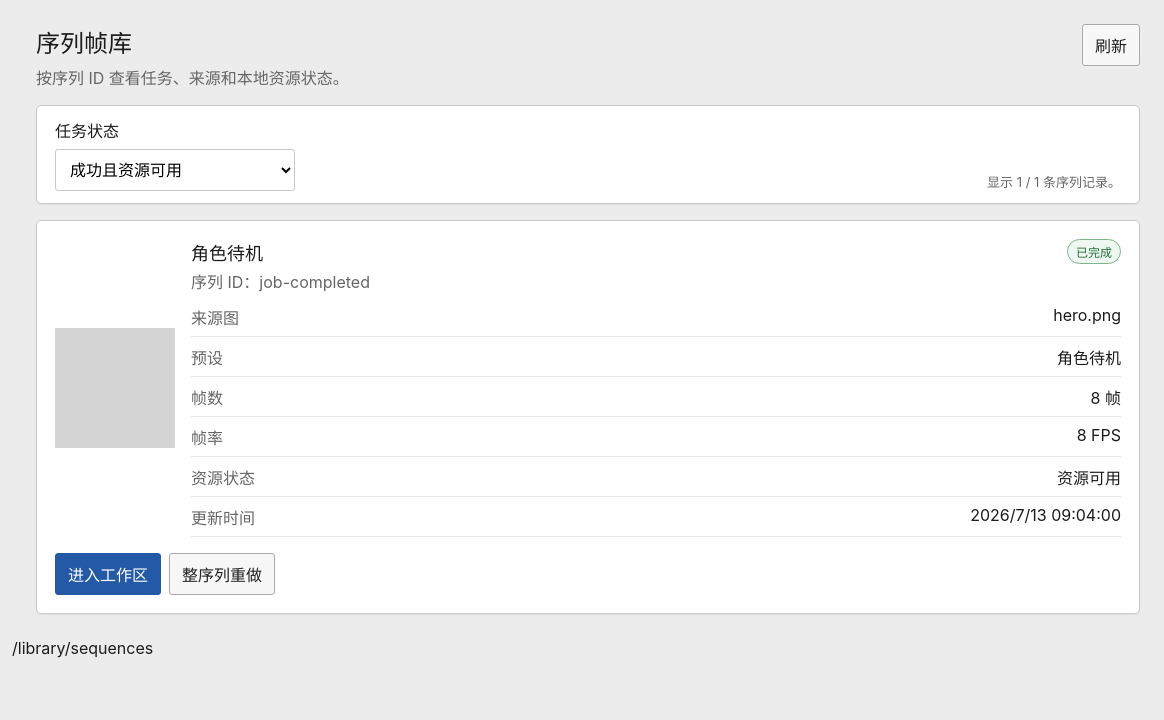
Scenario: SequenceLibraryPage › navigates to the stable workspace and redo routes
The image size is (1164, 720).
Click the button "进入工作区": (108, 574) top-left (55, 553), bottom-right (161, 595)
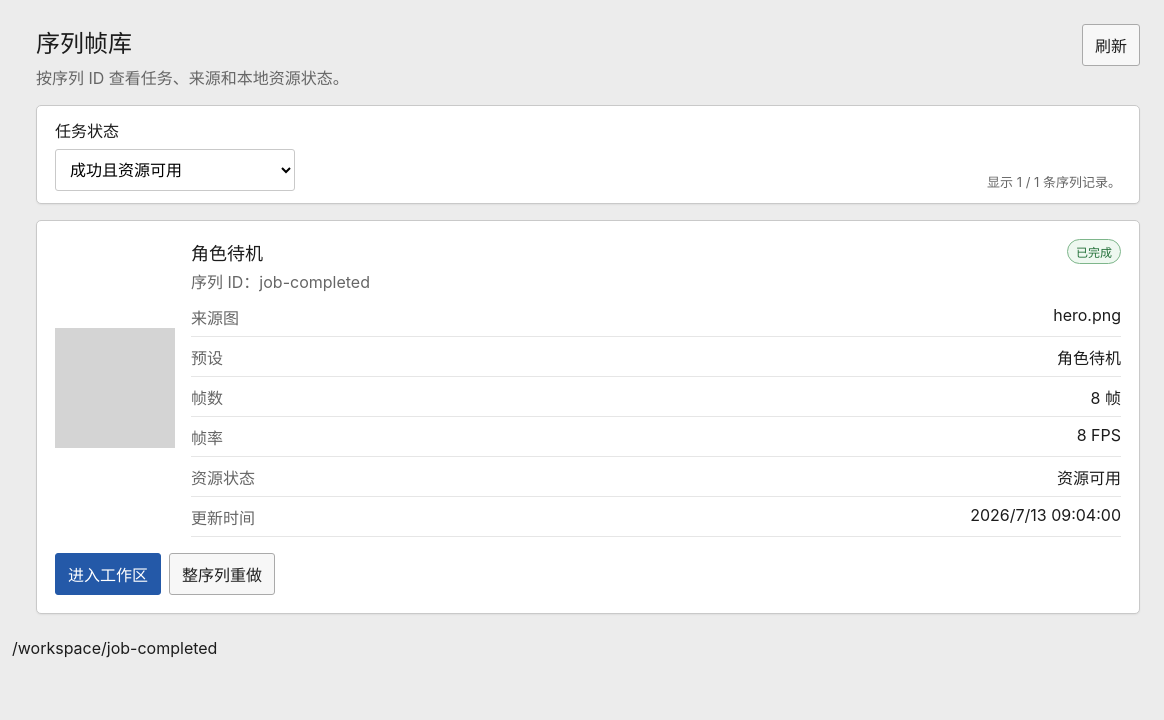
Check: the text with test id "location" reads "/workspace/job-completed", box top-left (12, 638), bottom-right (217, 658)
Click the button "整序列重做": (222, 574) top-left (169, 553), bottom-right (275, 595)
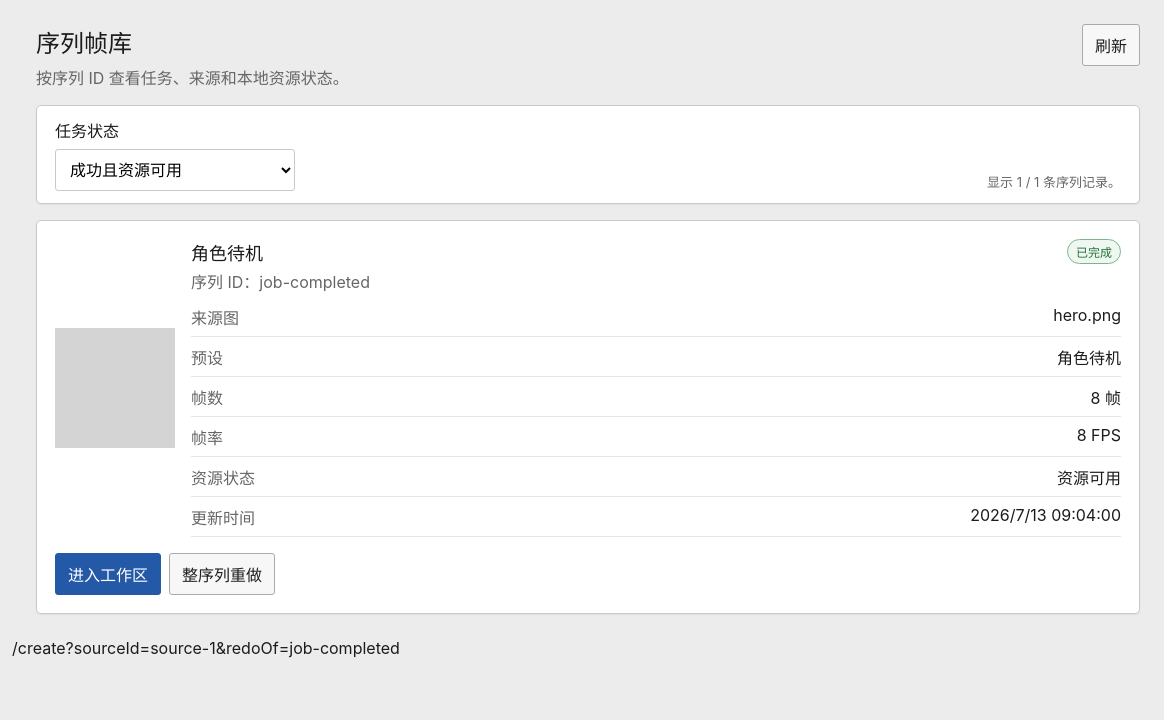
Check: the text with test id "location" reads "/create?sourceId=source-1&redoOf=job-completed", box top-left (12, 638), bottom-right (400, 658)
